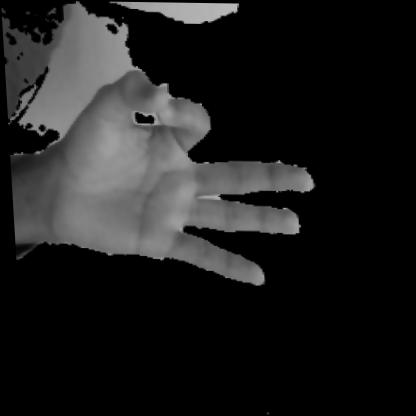ok: (12, 51, 333, 320)
